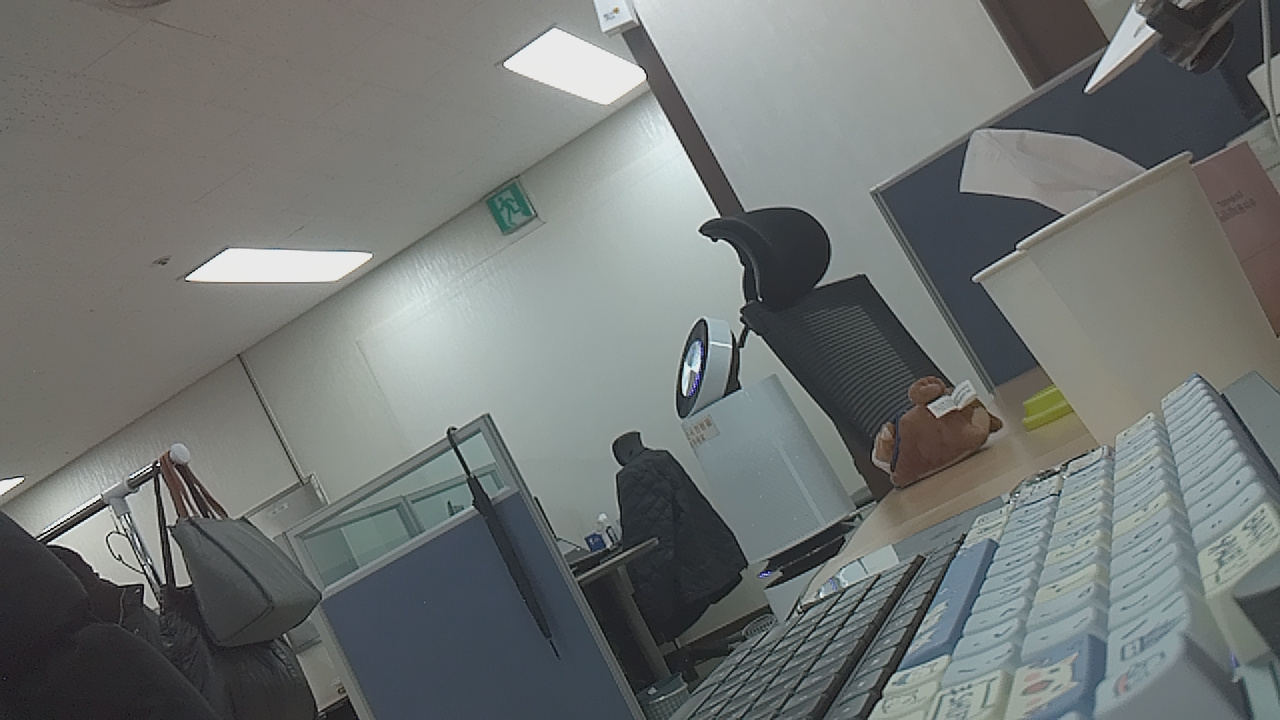cuteDog: (867, 371, 1030, 497)
